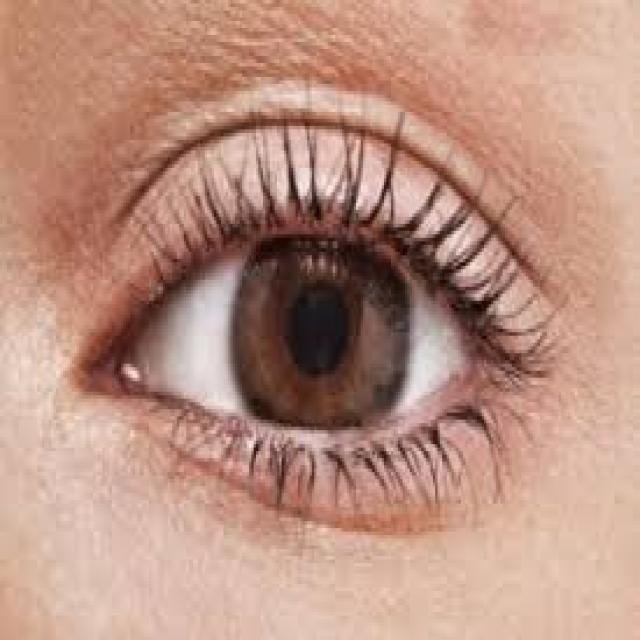Normal: (68, 73, 572, 536)
